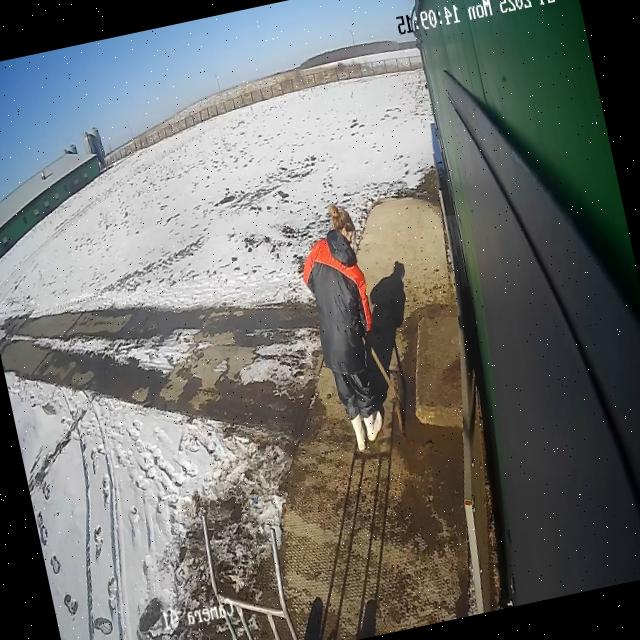Red uniform: (293, 223, 396, 428)
